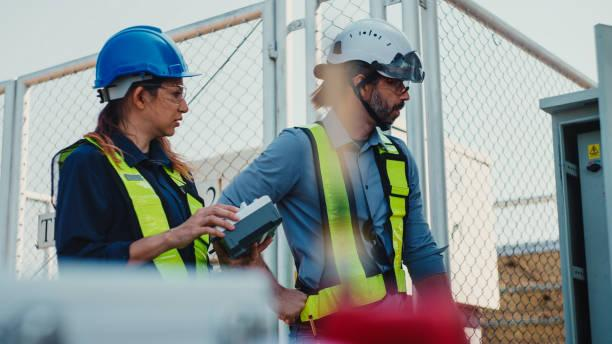goggle: (135, 78, 195, 104), (366, 73, 414, 96)
helmet: (322, 16, 429, 89), (87, 19, 199, 88)
vest: (289, 111, 424, 323), (48, 123, 230, 276)
